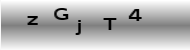4: (128, 7, 143, 22)
G: (52, 7, 69, 21)
T: (102, 17, 118, 31)
j: (72, 19, 82, 35)
z: (25, 15, 39, 25)
